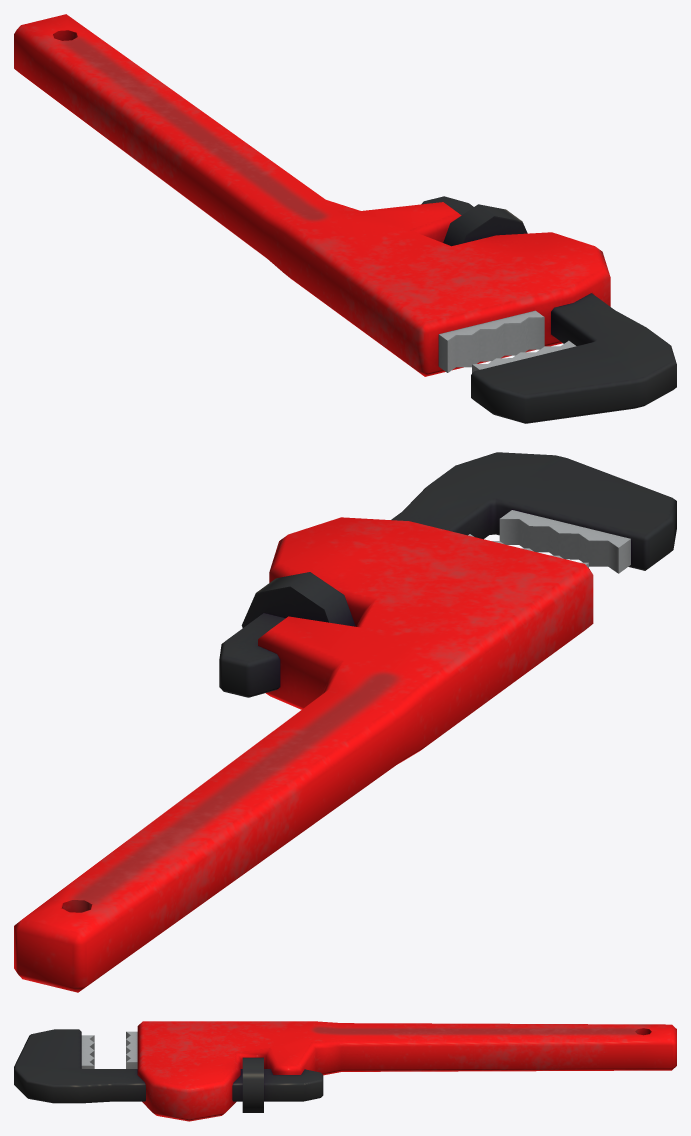
Rendered from tool_MonkeySpanner.fbx.
The picture shows the model from 3 angles, top to bottom: view 1: azimuth 30°, elevation 25°; view 2: azimuth 150°, elevation 25°; view 3: azimuth 270°, elevation 25°; orthographic projection. The views are drawn at different scales.
Visible parts, largest first — view 1: Wrench1; view 2: Wrench1; view 3: Wrench1.
Part boxes in pixels (x1,y1,x2,y2): Wrench1: (14,14,676,423); Wrench1: (14,452,676,992); Wrench1: (14,1021,676,1121).
Size of the model in its own units: 0.1105 by 0.0397 by 0.4449.
